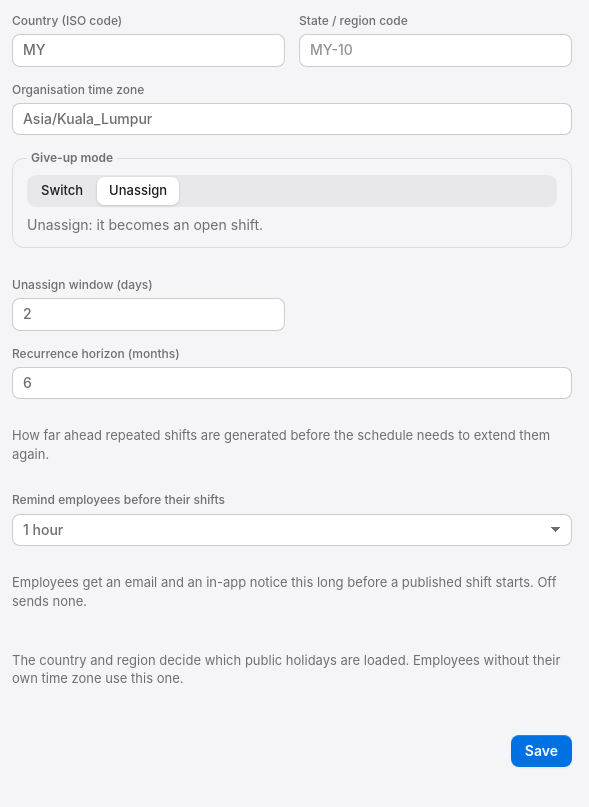
GeneralTab give-up mode › shows a 422 on the window field
Step 1. Click the button "Save" → (541, 751), box [511,735,572,767]
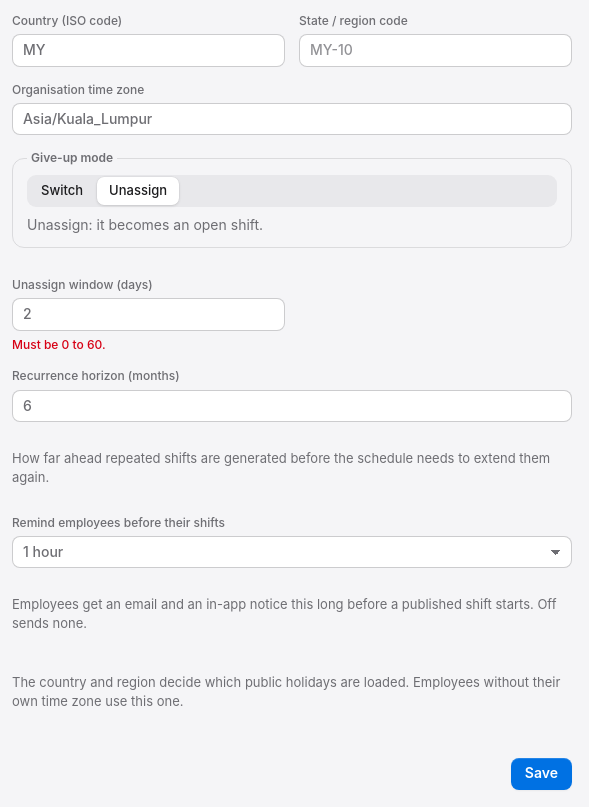
Expected: the text "Must be 0 to 60." is shown, [12,337,106,352]
